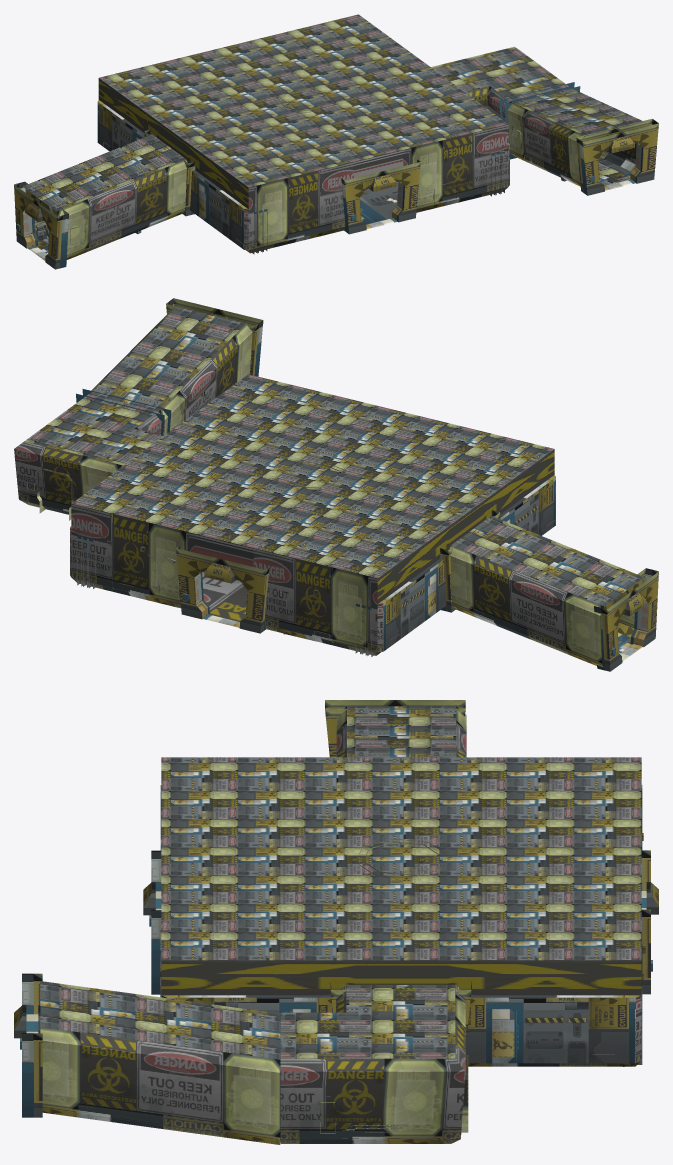
The model's file is Combined_Mesh_root_scene__12_ac3e1c64__ZombiesII_laboratory_06_d_24666406_c1f257.obj.
The picture shows the model from 3 angles, top to bottom: view 1: azimuth 30°, elevation 25°; view 2: azimuth 150°, elevation 25°; view 3: azimuth 270°, elevation 25°; orthographic projection. The views are drawn at different scales.
Bounding box in the file's own units: 78.61 × 13.91 × 53.73.
273 materials, 273 textured.
